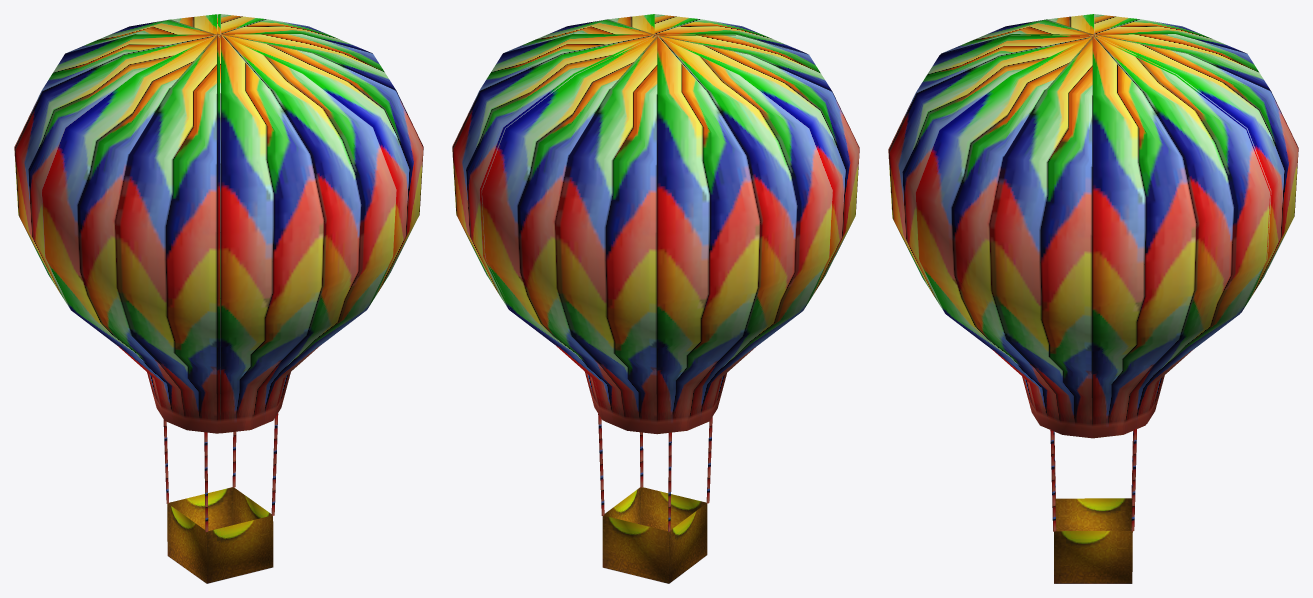
Rendered from furni_0201000.FBX.
3 renders of one model, left to right at view 1: azimuth 30°, elevation 25°; view 2: azimuth 150°, elevation 25°; view 3: azimuth 270°, elevation 25°, orthographic.
Visible parts, largest first — view 1: furni_0201000; view 2: furni_0201000; view 3: furni_0201000.
Part boxes in pixels (box(x1,y1,x2,y2)): furni_0201000: box(14, 14, 423, 583); furni_0201000: box(452, 14, 859, 583); furni_0201000: box(888, 14, 1298, 583).
Size of the model in its own units: 686 by 975 by 682.
1 material, 1 textured.
